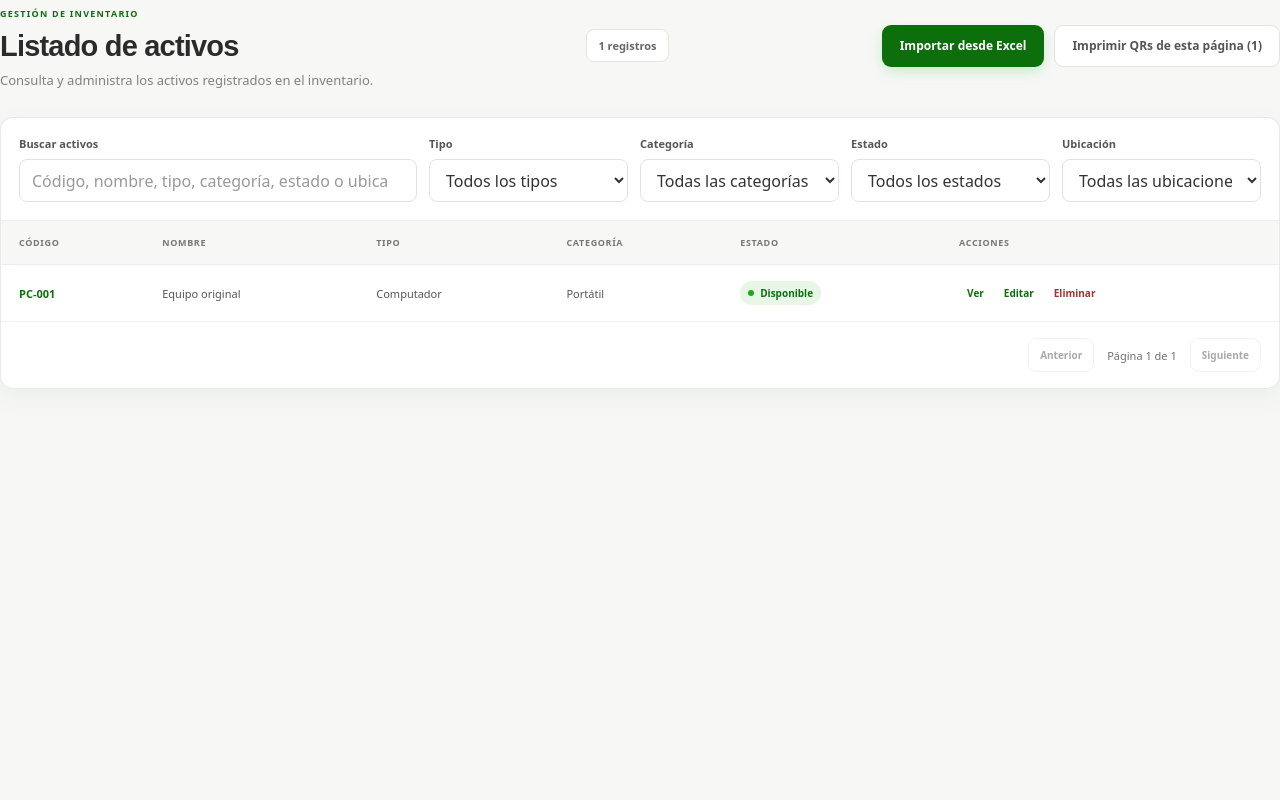
Test: Edición de inventario › muestra solo las columnas solicitadas y abre la hoja de vida completa
This screenshot has width=1280, height=800.
Expected: the text "PC-001" is shown, [1,265,144,321]
Expected: the column headings read "Código", "Nombre", "Tipo", "Categoría", "Estado", "Acciones", in this order, [1,221,144,265]; [144,221,358,265]; [358,221,548,265]; [548,221,722,265]; [722,221,941,265]; [941,221,1279,265]
Click the button "Ver" at [976, 293], box [959,280,992,306]
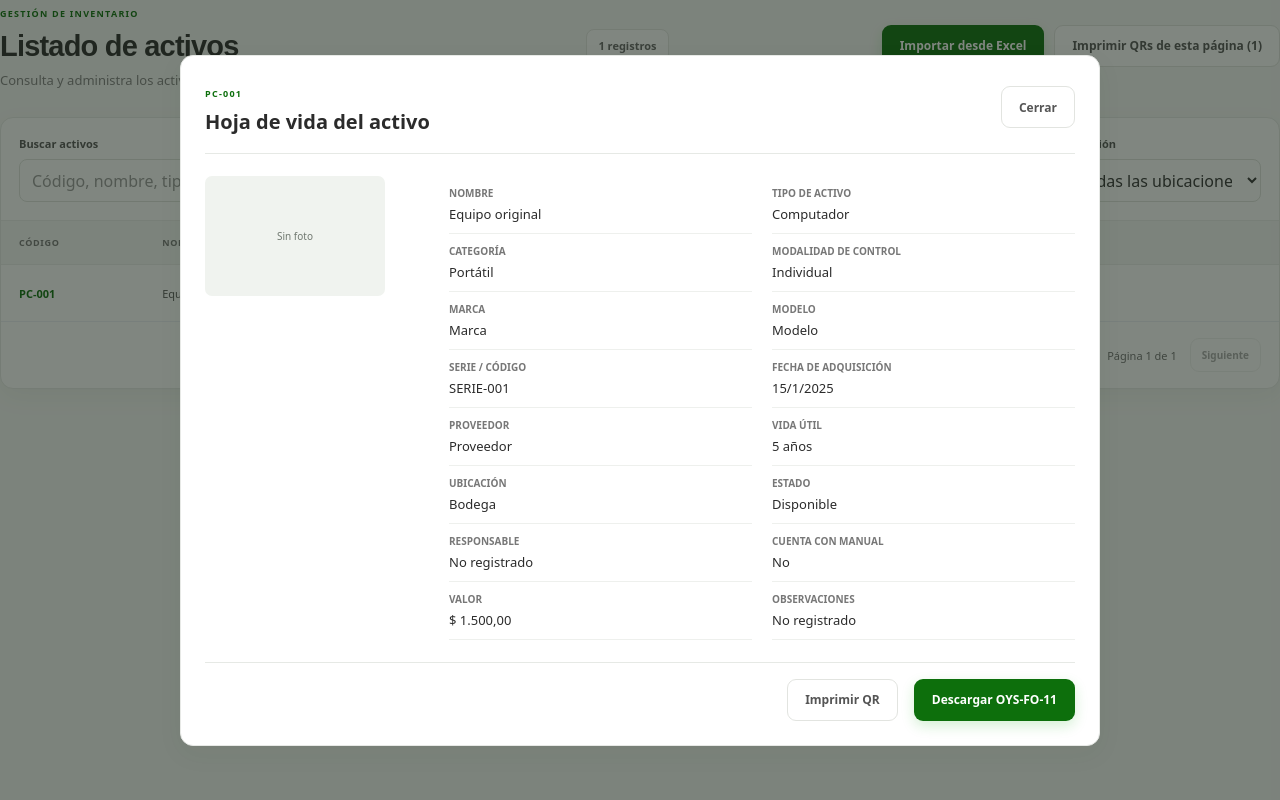
Now the dialog is shown
Now the heading "Hoja de vida del activo" is shown, box [205,108,430,134]
Now the text "Equipo original" is shown, box [449,204,542,222]
